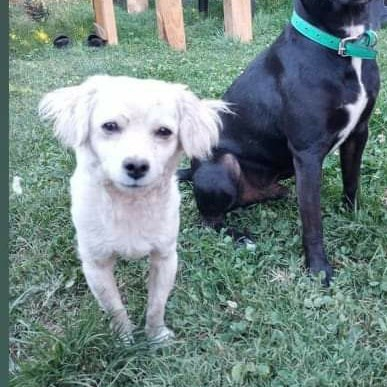dog: (36, 68, 237, 348)
